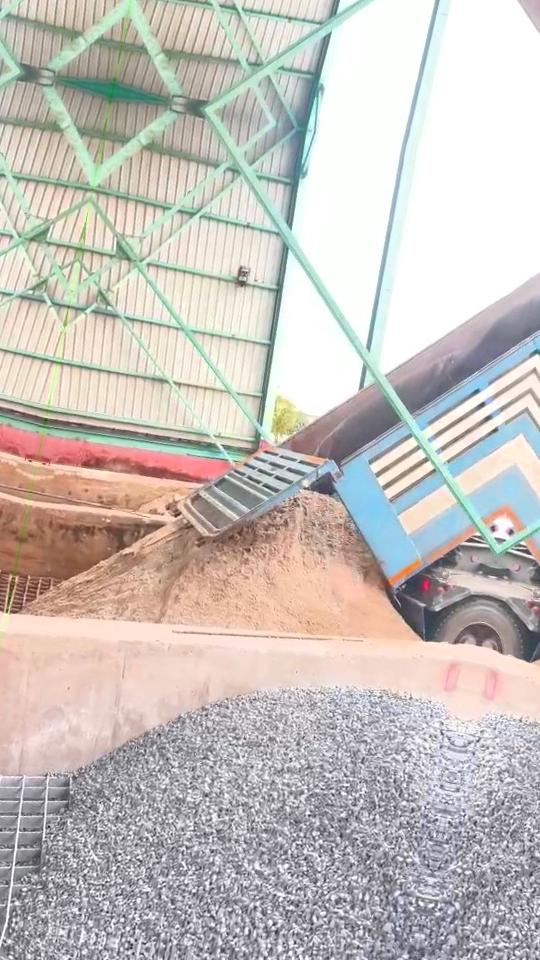gravel: (12, 688, 462, 960)
sand: (25, 492, 417, 640), (134, 489, 187, 517)
